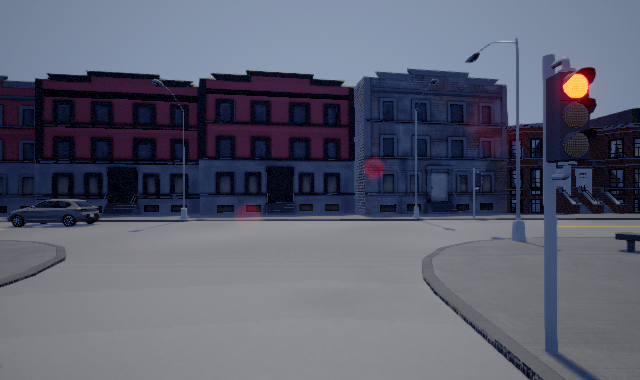traffic_light: (546, 57, 597, 180)
vehicle: (7, 199, 100, 227)
